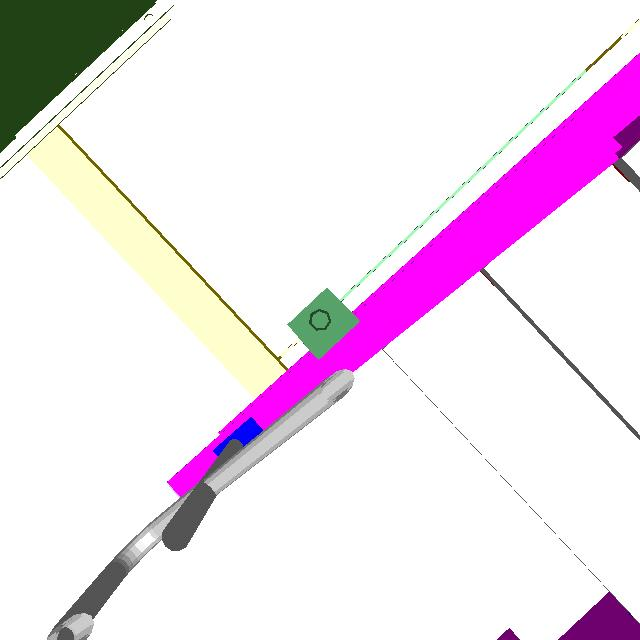Poste: (301, 304, 343, 341)
